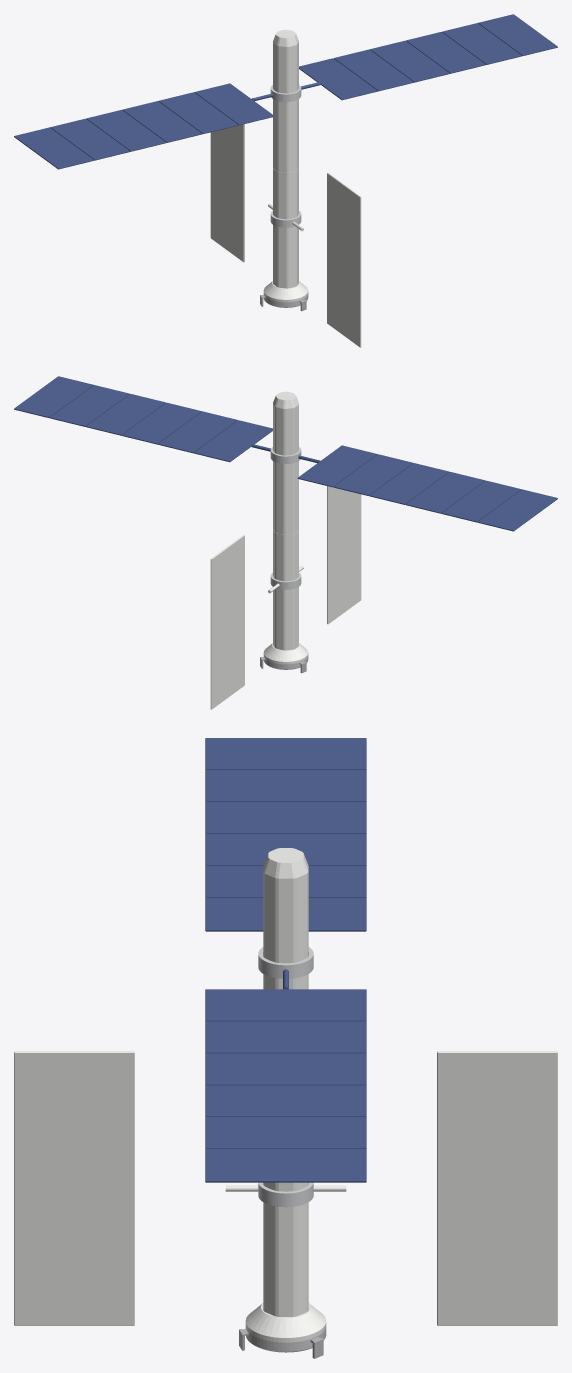
The model's file is ax_grav_12_hub_mast.glb.
The picture shows the model from 3 angles, top to bottom: view 1: azimuth 30°, elevation 25°; view 2: azimuth 150°, elevation 25°; view 3: azimuth 270°, elevation 25°; orthographic projection. The views are drawn at different scales.
Parts seen in each view (by area): view 1: panel_solar_m, panel_solar_p, mast, panel_radiator_m, panel_radiator_p, mast_base, gimbals; view 2: panel_solar_m, panel_solar_p, mast, panel_radiator_p, panel_radiator_m, mast_base, gimbals; view 3: panel_radiator_p, panel_radiator_m, panel_solar_p, panel_solar_m, mast, mast_base, gimbals, base_collar.
Boxes of the visible parts, bbox=[...] form: panel_solar_m: bbox=[14, 83, 274, 169]; panel_solar_p: bbox=[299, 14, 557, 100]; mast: bbox=[273, 29, 298, 288]; panel_radiator_m: bbox=[292, 173, 361, 347]; panel_radiator_p: bbox=[210, 87, 272, 262]; mast_base: bbox=[263, 281, 308, 302]; gimbals: bbox=[270, 85, 301, 227]; panel_solar_m: bbox=[297, 445, 557, 531]; panel_solar_p: bbox=[14, 376, 272, 462]; mast: bbox=[273, 391, 298, 650]; panel_radiator_p: bbox=[210, 535, 279, 709]; panel_radiator_m: bbox=[299, 449, 361, 624]; mast_base: bbox=[263, 643, 308, 664]; gimbals: bbox=[270, 447, 301, 589]; panel_radiator_p: bbox=[313, 1051, 557, 1325]; panel_radiator_m: bbox=[14, 1051, 258, 1325]; panel_solar_p: bbox=[205, 969, 366, 1182]; panel_solar_m: bbox=[205, 738, 366, 931]; mast: bbox=[263, 848, 308, 1316]; mast_base: bbox=[245, 1303, 326, 1342]; gimbals: bbox=[258, 947, 313, 1207]; base_collar: bbox=[245, 1327, 326, 1352].
Size of the model in its own units: 20.8 by 10.68 by 10.8.
